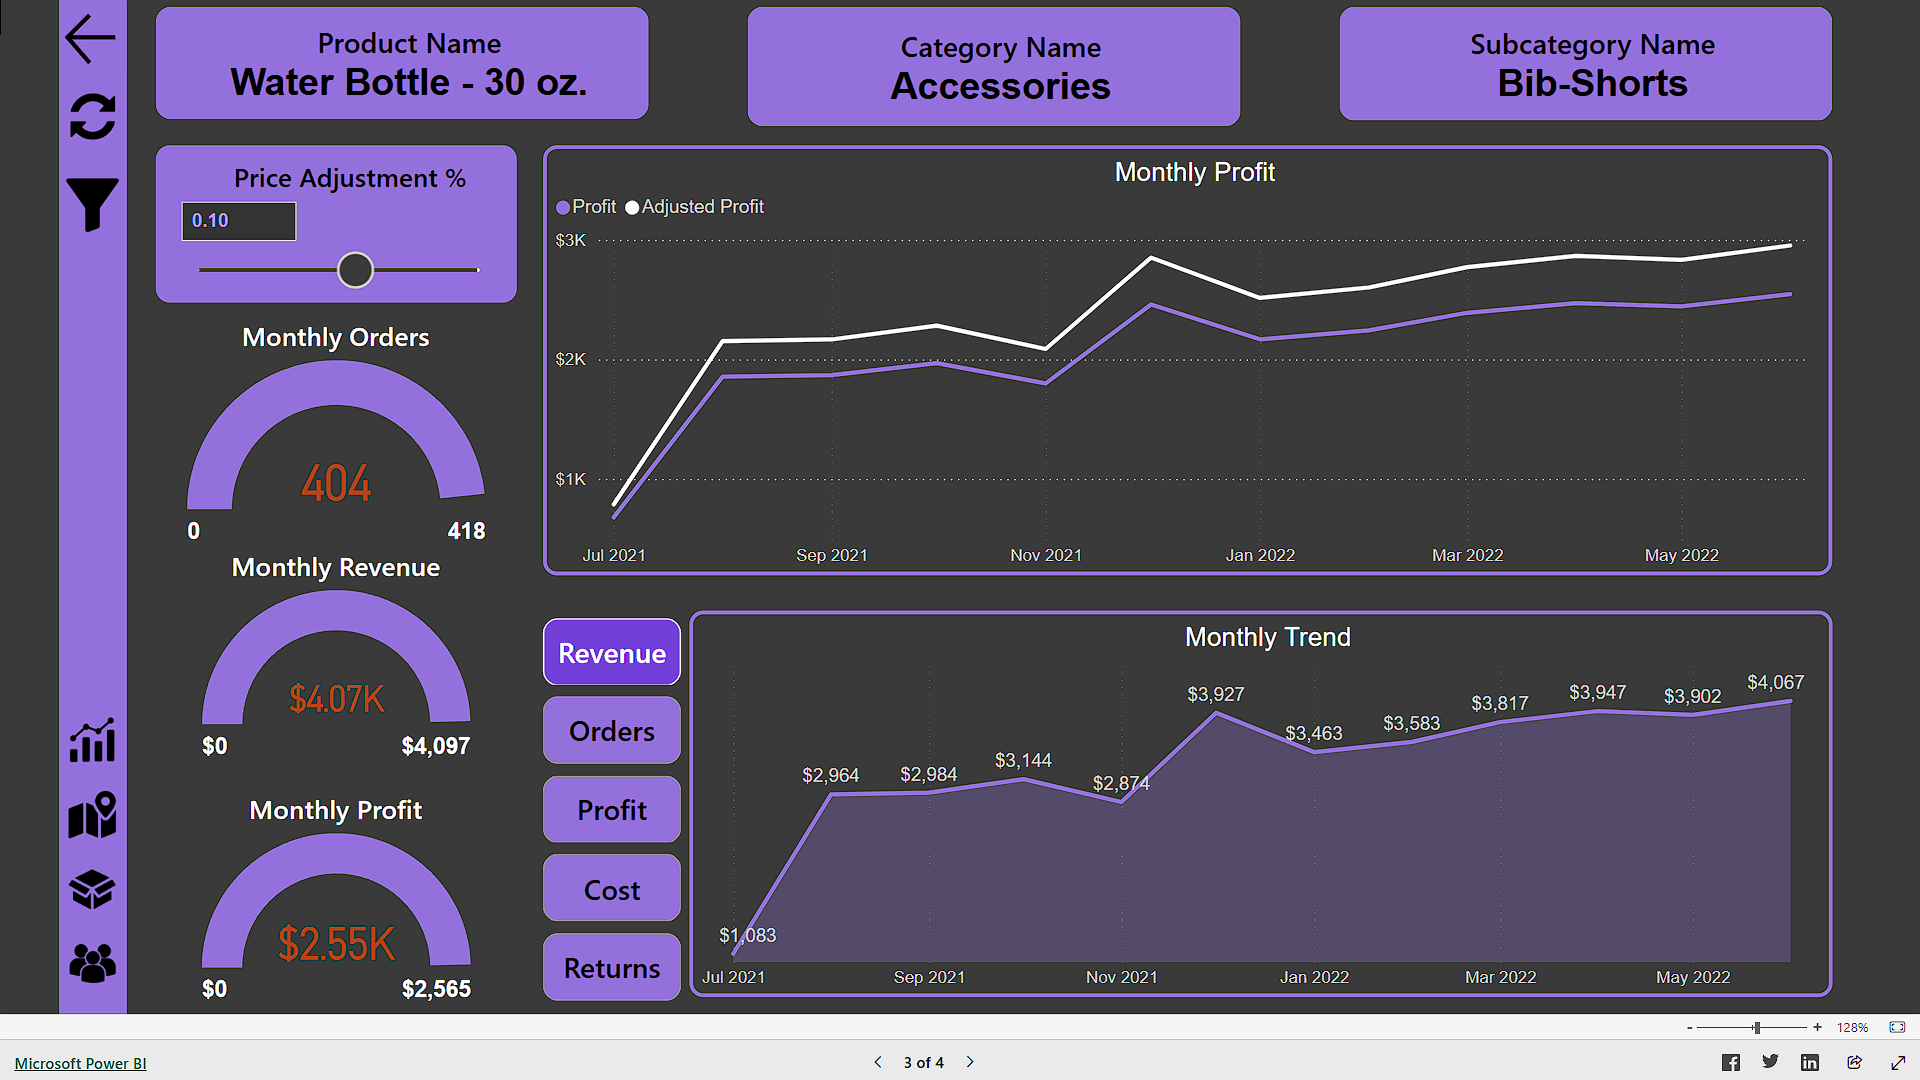

The page's visual inventory and layout, read from the dashboard file:
{"tool":"powerbi","page":{"name":"Product Details","canvas":[1280,720],"ordinal":2},"visuals":[{"type":"shape","box":[0,0,48.5,719.8],"z":0,"group":"g1"},{"type":"cardVisual","fields":{"Data":["Min(Product Lookup.Product Name)"]},"box":[69.1,4.5,350,80.9],"z":1000},{"type":"image","box":[3.2,66.7,41,32.5],"z":1000,"group":"g1"},{"type":"image","box":[4.5,125.4,38.1,40],"z":2000,"group":"g1"},{"type":"areaChart","title":"Monthly Trend","fields":{"Y":["_Measure Table.Total Returns"],"Category":["Calendar Lookup.Start of Month"]},"box":[447.3,433.6,811.8,274.5],"z":2000},{"type":"advancedSlicerVisual","fields":{"Values":["Products Page.Products Page"]},"box":[343.6,433.6,103.6,286.4],"z":3000},{"type":"image","box":[3.4,508.3,40.8,33.3],"z":3000,"group":"g2"},{"type":"slicer","title":"Price Adjustment %","fields":{"Values":["Price Adjustment %.Price Adjustment %"]},"box":[69.1,102.7,256.4,111.8],"z":4000},{"type":"image","box":[3.5,561.3,40.9,33.6],"z":4000,"group":"g2"},{"type":"areaChart","title":"Monthly Profit","fields":{"Y":["_Measure Table.Profit","_Measure Table.Adjusted Profit"],"Category":["Calendar Lookup.Start of Month"]},"box":[343.6,102.7,915.5,305.5],"z":5000},{"type":"image","box":[3.2,614.5,41.1,33.7],"z":5000,"group":"g2"},{"type":"gauge","title":"Monthly Orders","fields":{"Y":["_Measure Table.Total Orders"],"MaxValue":["_Measure Table.Target Orders"]},"box":[58.2,225.5,277.3,163.6],"z":6000},{"type":"image","box":[3.7,667.8,40.6,32.6],"z":6000,"group":"g2"},{"type":"gauge","title":"Monthly Revenue","fields":{"MaxValue":["_Measure Table.Target Revenue"],"Y":["_Measure Table.Total Revenue"]},"box":[58.2,389.1,277.3,158],"z":7000},{"type":"gauge","title":"Monthly Profit","fields":{"Y":["_Measure Table.Profit"],"MaxValue":["_Measure Table.Target Profits"]},"box":[58.2,561.8,277.3,158.2],"z":8000},{"type":"cardVisual","fields":{"Data":["Min(Product Subcategory Lookup.Subcategory_Name)"]},"box":[909.1,4.5,350,81.8],"z":9000},{"type":"cardVisual","fields":{"Data":["Min(Product Category Lookup.Category Name)"]},"box":[489.1,4.5,350,85.5],"z":10000},{"type":"group","id":"g1","title":"Group 1","box":[0,0,48.5,719.8],"z":11000},{"type":"actionButton","box":[0,4.4,48.5,46.8],"z":12000},{"type":"group","id":"g2","title":"Group 3","box":[3.2,508.3,41.2,192.2],"z":22001}]}

Visuals, with their boxes on the page's 1280x720 design canvas (x1, y1, x2, y2). These are canvas units, not pixel positions in the 1920x1080 screenshot, which may show the page scaled, cropped or inside an application window:
shape: 0 0 48 720
cardVisual - Min(Product Lookup.Product Name): 69 4 419 85
image: 3 67 44 99
image: 4 125 43 165
"Monthly Trend" areaChart: 447 434 1259 708
advancedSlicerVisual - Products Page.Products Page: 344 434 447 720
image: 3 508 44 542
"Price Adjustment %" slicer: 69 103 326 214
image: 4 561 44 595
"Monthly Profit" areaChart: 344 103 1259 408
image: 3 614 44 648
"Monthly Orders" gauge: 58 226 336 389
image: 4 668 44 700
"Monthly Revenue" gauge: 58 389 336 547
"Monthly Profit" gauge: 58 562 336 720
cardVisual - Min(Product Subcategory Lookup.Subcategory_Name): 909 4 1259 86
cardVisual - Min(Product Category Lookup.Category Name): 489 4 839 90
"Group 1" group: 0 0 48 720
actionButton: 0 4 48 51
"Group 3" group: 3 508 44 700
